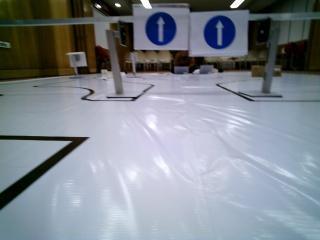straight: (190, 11, 245, 58), (133, 4, 186, 50)
